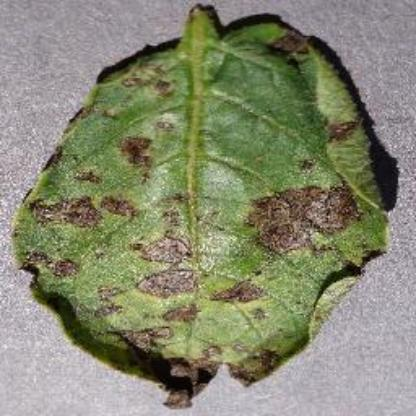Early-Blight: (16, 0, 394, 408)
